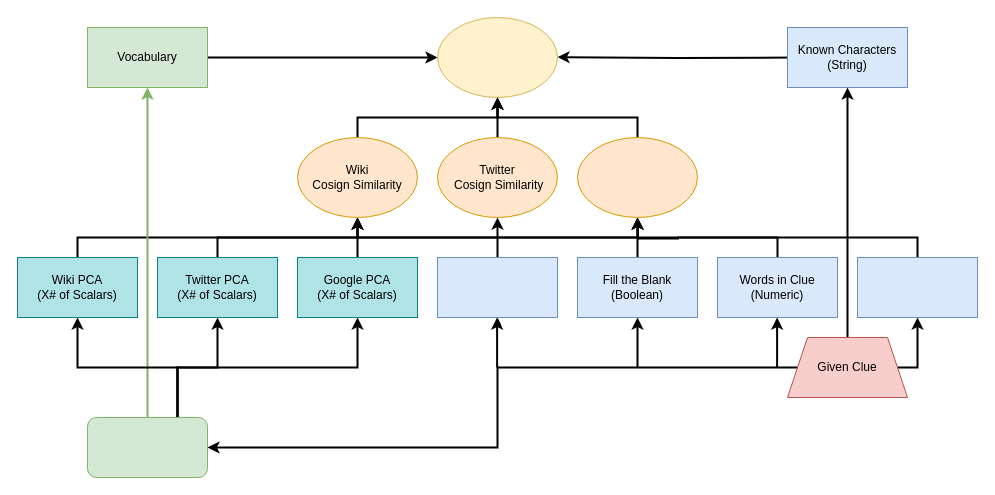
The diagram is 995 pixels wide and 495 high, and some of its shapes have lost their labels. Each missing label, with the centre of its shape:
Answer Prediction: the point at 497,57
Google Cosign Similarity: the point at 637,177
Length of Answer (Numeric): the point at 917,287
Presence of noun (Boolean): the point at 497,287
Pretrained Gensim Models: the point at 147,447
